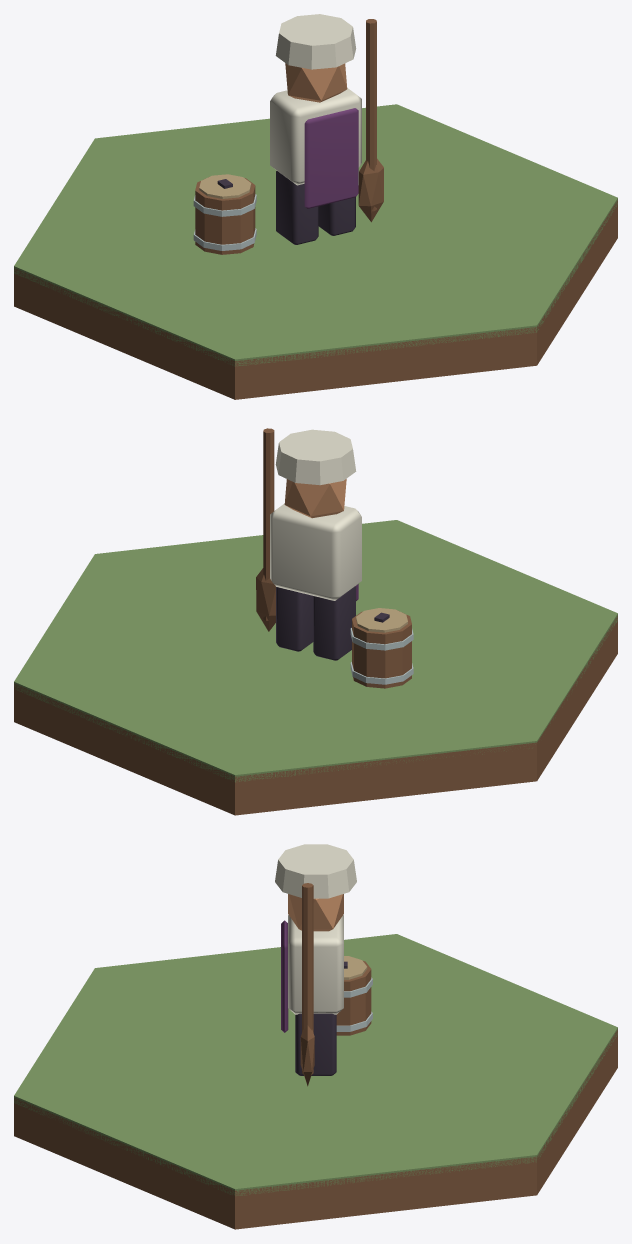
Rendered from brewer.glb.
The picture shows the model from 3 angles, top to bottom: view 1: azimuth 30°, elevation 25°; view 2: azimuth 150°, elevation 25°; view 3: azimuth 270°, elevation 25°; orthographic projection.
Parts seen in each view (by area): view 1: Cone.239, Cone.238, Cube.058, Cube.057, Cone.240, Cone.242, Cube.055, Icosphere.151, Cone.241, Icosphere.152, Cube.056, Cone.245; view 2: Cone.239, Cone.238, Cube.057, Cone.240, Cone.242, Cube.055, Cube.056, Icosphere.151, Cone.241, Cone.245, Icosphere.152; view 3: Cone.239, Cone.238, Cube.057, Cone.240, Cube.056, Cone.241, Cone.242, Icosphere.151, Cube.058, Icosphere.152.
Part boxes in pixels (x1=…): Cone.239: x1=14, y1=104, x2=617, y2=366; Cone.238: x1=14, y1=200, x2=617, y2=399; Cube.058: x1=304, y1=108, x2=358, y2=208; Cube.057: x1=270, y1=88, x2=361, y2=185; Cone.240: x1=275, y1=14, x2=356, y2=69; Cone.242: x1=195, y1=177, x2=255, y2=254; Cube.055: x1=276, y1=171, x2=318, y2=244; Icosphere.151: x1=285, y1=63, x2=347, y2=102; Cone.241: x1=366, y1=19, x2=376, y2=211; Icosphere.152: x1=358, y1=158, x2=383, y2=222; Cube.056: x1=318, y1=197, x2=355, y2=235; Cone.245: x1=199, y1=174, x2=251, y2=198; Cone.239: x1=14, y1=520, x2=617, y2=782; Cone.238: x1=14, y1=616, x2=617, y2=815; Cube.057: x1=270, y1=503, x2=361, y2=600; Cone.240: x1=275, y1=429, x2=356, y2=485; Cone.242: x1=352, y1=611, x2=411, y2=688; Cube.055: x1=313, y1=586, x2=355, y2=660; Cube.056: x1=276, y1=587, x2=313, y2=651; Icosphere.151: x1=284, y1=479, x2=346, y2=518; Cone.241: x1=263, y1=428, x2=274, y2=620; Cone.245: x1=356, y1=608, x2=407, y2=632; Icosphere.152: x1=256, y1=568, x2=275, y2=631; Cone.239: x1=14, y1=934, x2=617, y2=1195; Cone.238: x1=14, y1=1029, x2=617, y2=1229; Cube.057: x1=288, y1=915, x2=343, y2=1014; Cone.240: x1=275, y1=844, x2=356, y2=898; Cube.056: x1=295, y1=1013, x2=336, y2=1075; Cone.241: x1=302, y1=883, x2=313, y2=1074; Cone.242: x1=336, y1=961, x2=371, y2=1035; Icosphere.151: x1=288, y1=894, x2=343, y2=931; Cube.058: x1=281, y1=920, x2=288, y2=1032; Icosphere.152: x1=300, y1=1025, x2=314, y2=1086.
Bounding box in the file's own units: 3.67 × 1.62 × 3.67.
